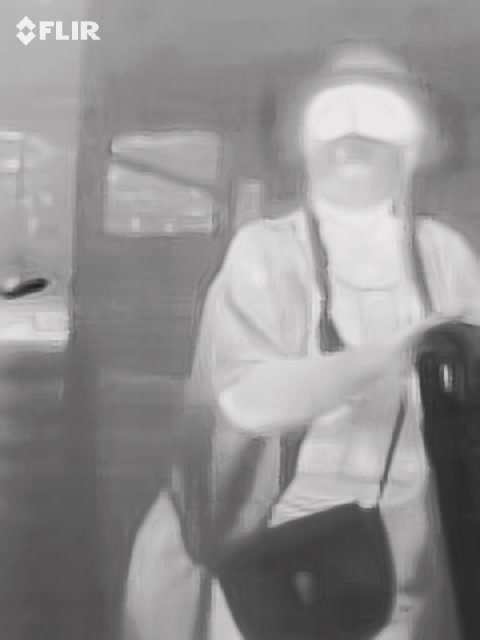head: (297, 67, 425, 211)
